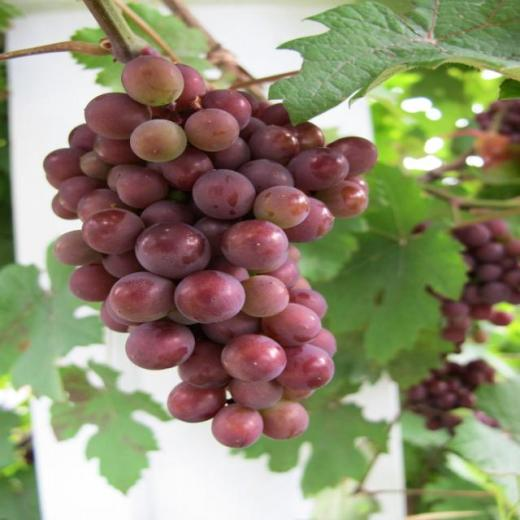Orange: (42, 56, 379, 447), (400, 210, 520, 430)
